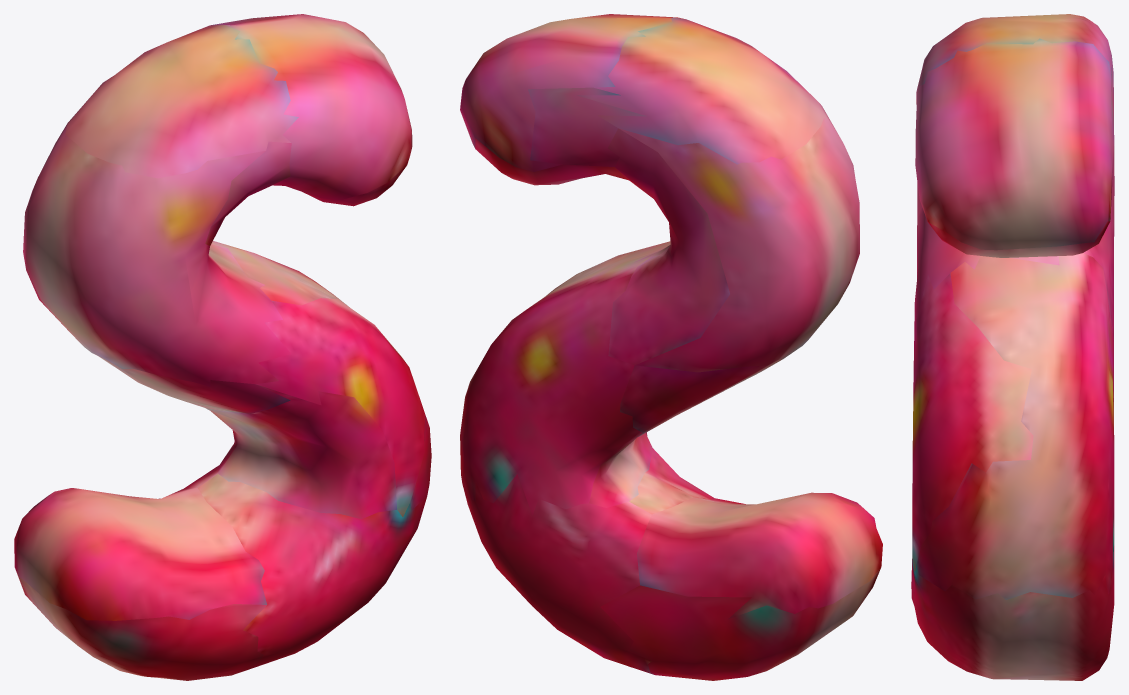
The picture shows the model from 3 angles, left to right: view 1: azimuth 30°, elevation 25°; view 2: azimuth 150°, elevation 25°; view 3: azimuth 270°, elevation 25°; orthographic projection. The views are drawn at different scales.
Parts seen in each view (by area): view 1: Candy-Letter-S; view 2: Candy-Letter-S; view 3: Candy-Letter-S.
Part boxes in pixels (<box>): Candy-Letter-S: <box>14,14,431,680</box>; Candy-Letter-S: <box>460,14,882,680</box>; Candy-Letter-S: <box>911,14,1114,680</box>.
Size of the model in its own units: 0.2257 by 0.354 by 0.1028.
1 material, 1 textured.
